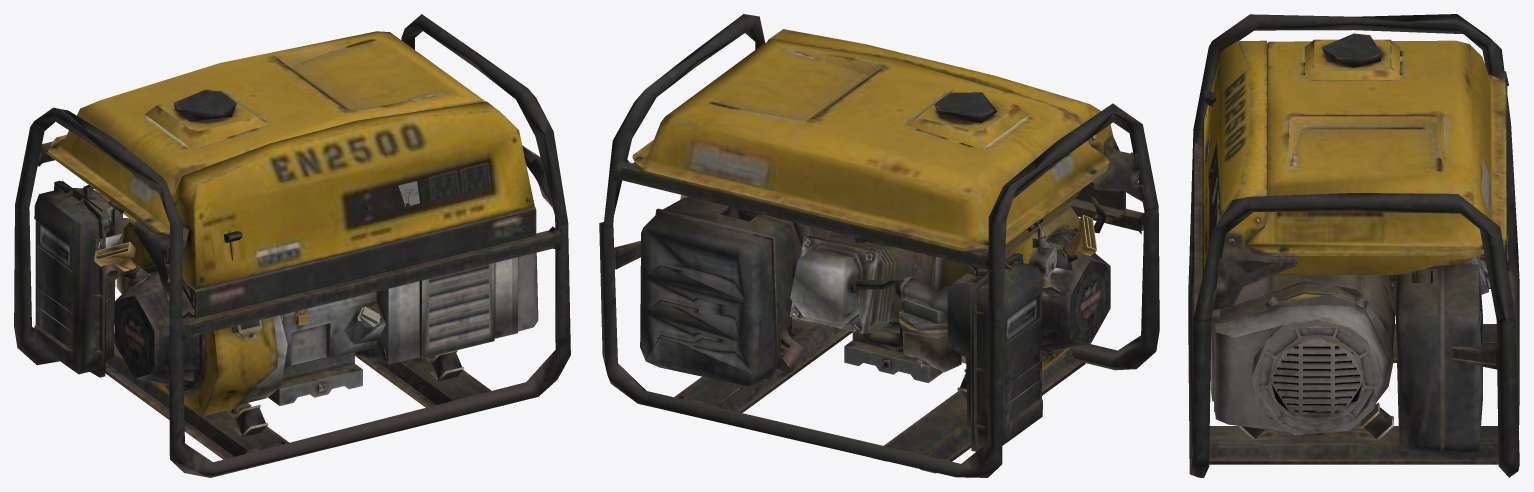
The model's file is portable_generator.glb.
3 views of the same model, side by side, from view 1: azimuth 30°, elevation 25°; view 2: azimuth 150°, elevation 25°; view 3: azimuth 270°, elevation 25° (orthographic).
Parts seen in each view (by area): view 1: portable_generator; view 2: portable_generator; view 3: portable_generator.
Part boxes in pixels (x1,y1,x2,y2): portable_generator: [14, 14, 570, 477]; portable_generator: [599, 14, 1159, 477]; portable_generator: [1188, 14, 1519, 477].
Bounding box in the file's own units: 0.8183 × 0.5769 × 0.564.
2 materials, 2 textured.
